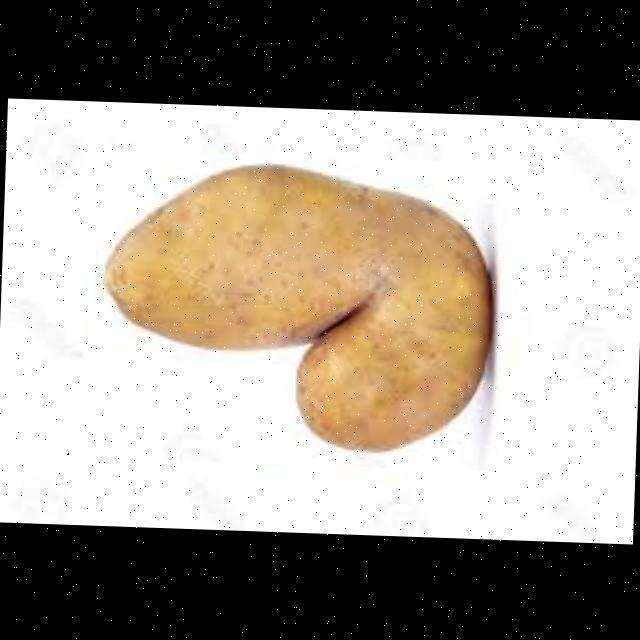Damaged potato: (84, 148, 522, 471)
